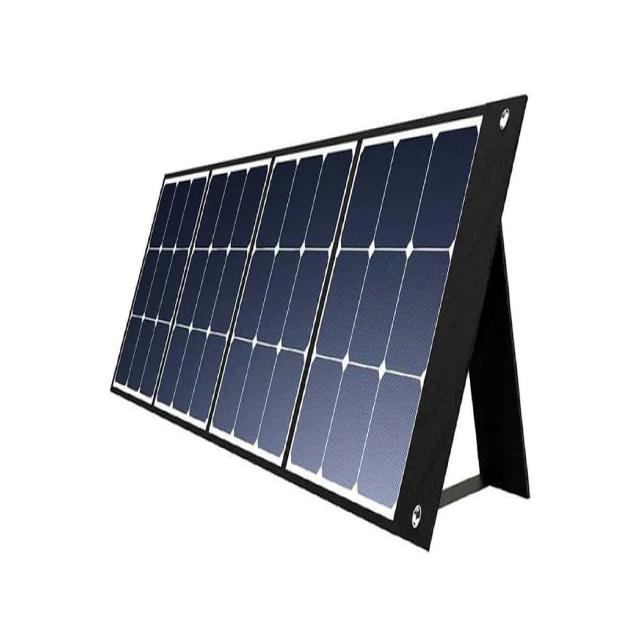clean-solar-panel: (112, 100, 525, 535)
